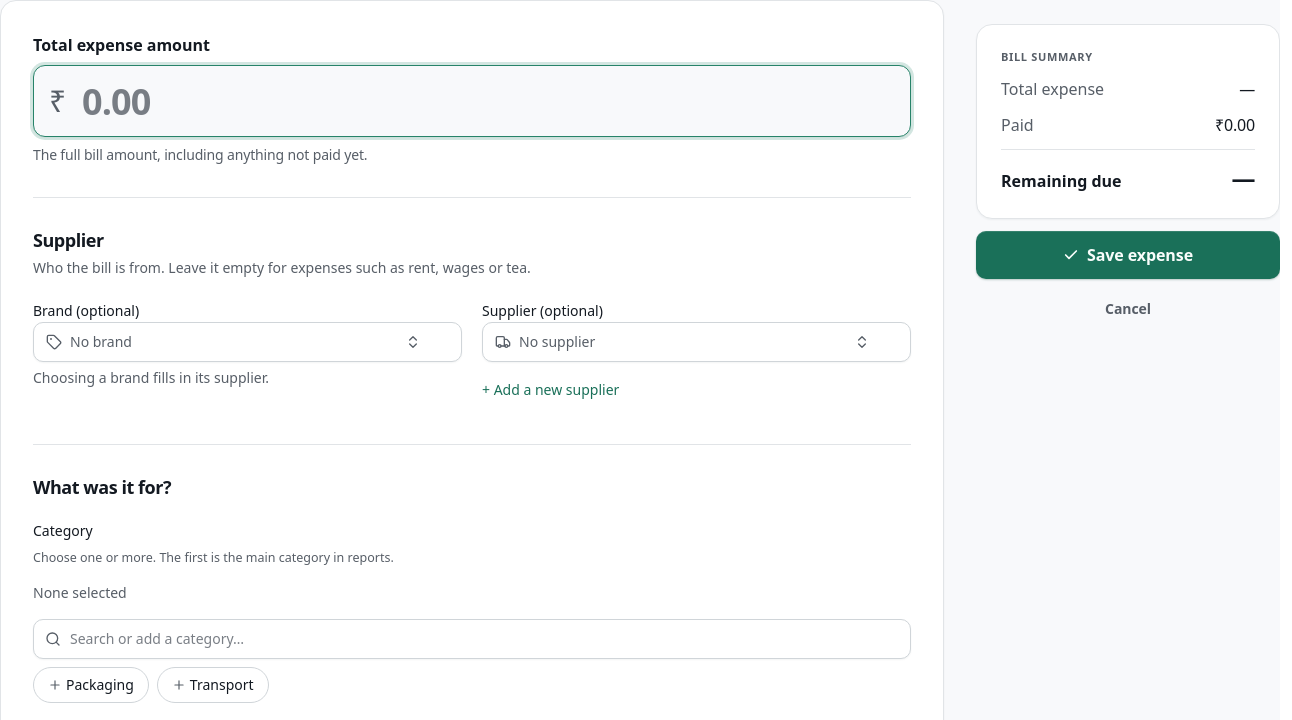
Test: Add expense layout › "Clear amount" empties the amount and puts the cursor back in it
This screenshot has width=1292, height=720.
In the field labelled "Total expense amount": (472, 101) [33, 65, 911, 137], type "450"
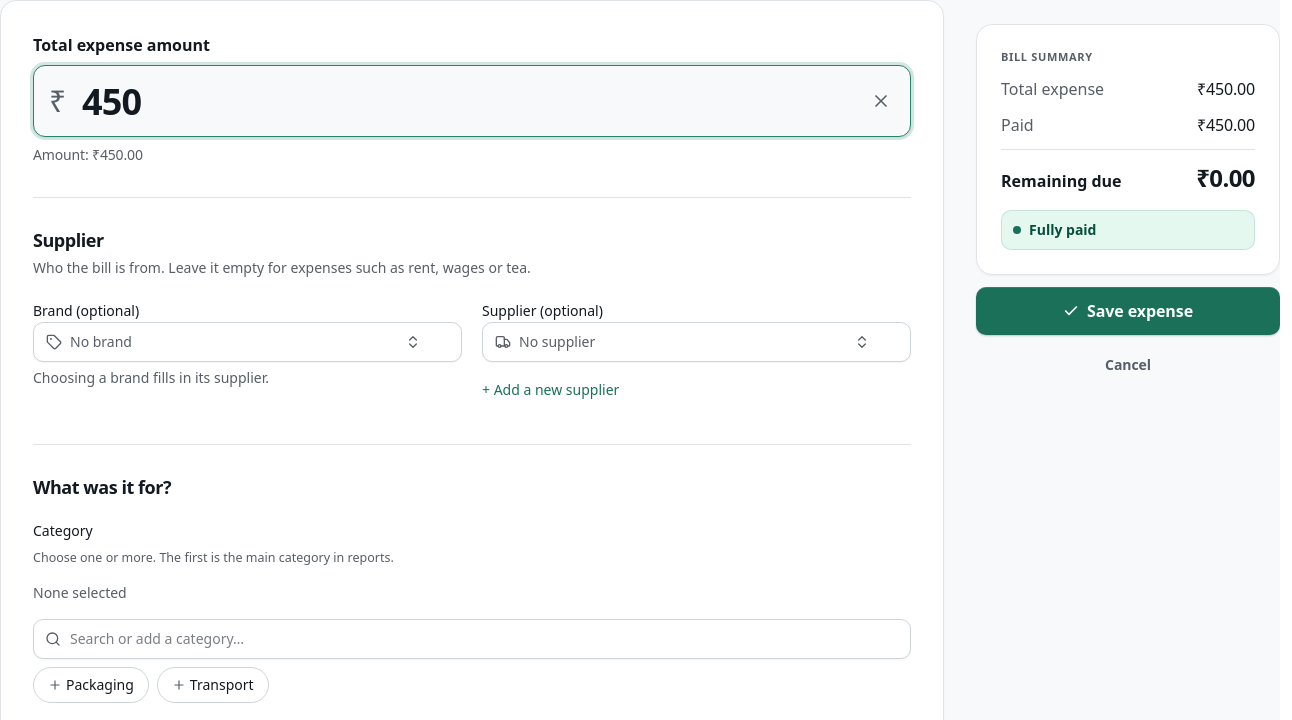
Click the button named "Clear amount": (881, 101) [859, 79, 903, 123]
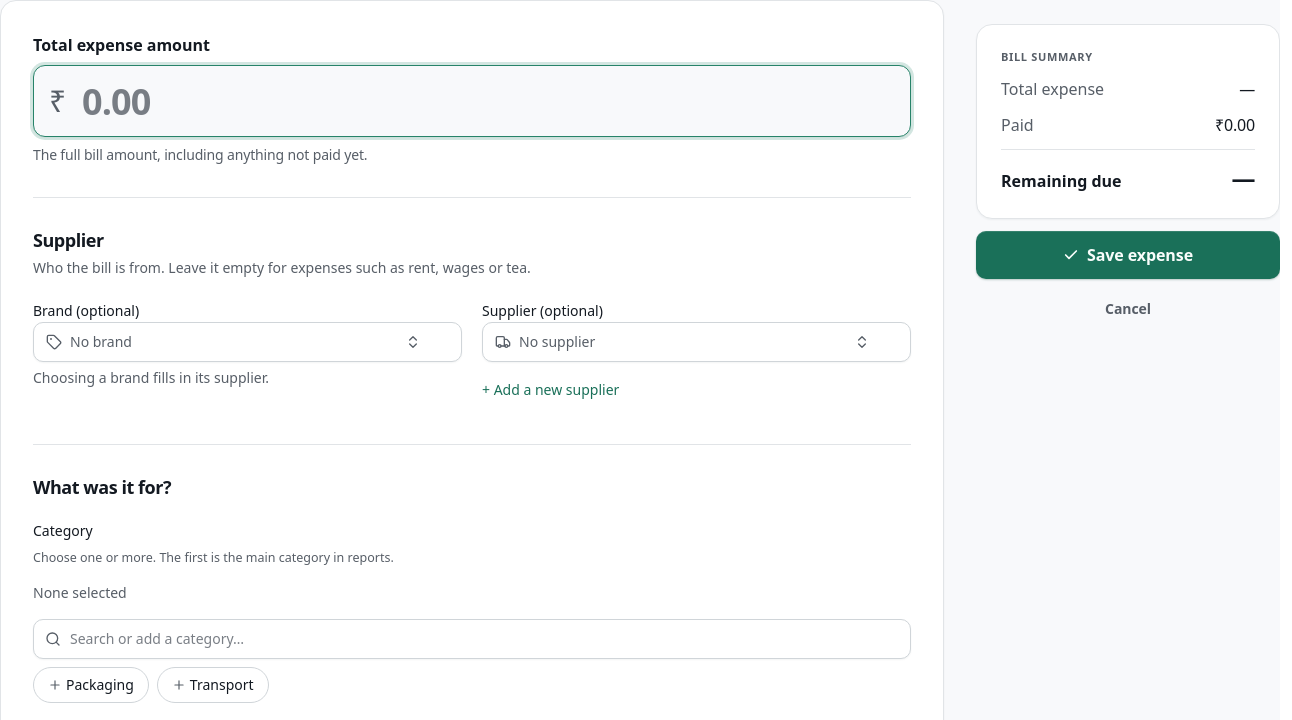
Now the field labelled "Total expense amount" is empty, box [33, 65, 911, 137]
